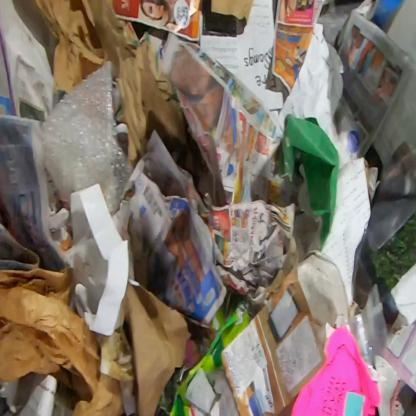cardboard: (31, 0, 187, 167), (220, 249, 350, 415), (119, 245, 194, 415), (169, 296, 257, 416), (0, 0, 65, 120), (184, 366, 241, 416), (210, 0, 254, 23)
soft_plastic: (0, 266, 125, 415), (38, 59, 136, 217), (347, 144, 415, 370)
